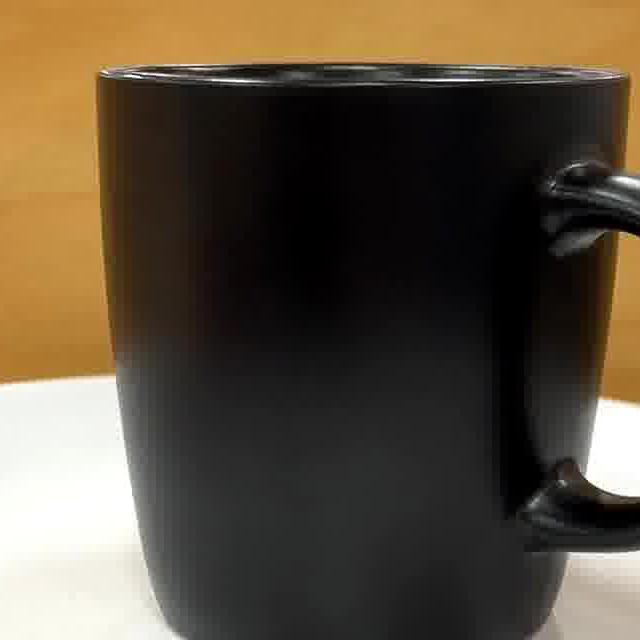cup: (104, 64, 640, 640)
